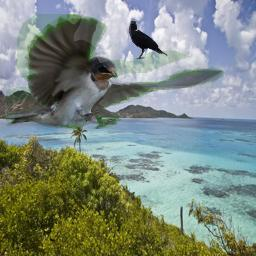Crow: (128, 20, 168, 59)
Swallow: (6, 14, 224, 129)
